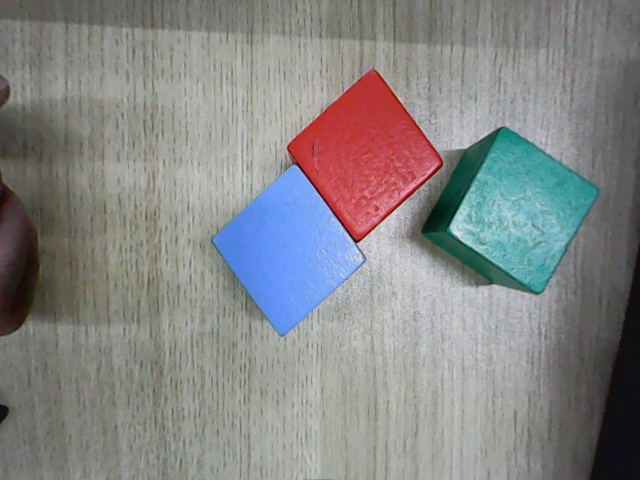upside of big cube: (211, 164, 366, 337), (288, 68, 443, 239), (448, 127, 600, 293)
